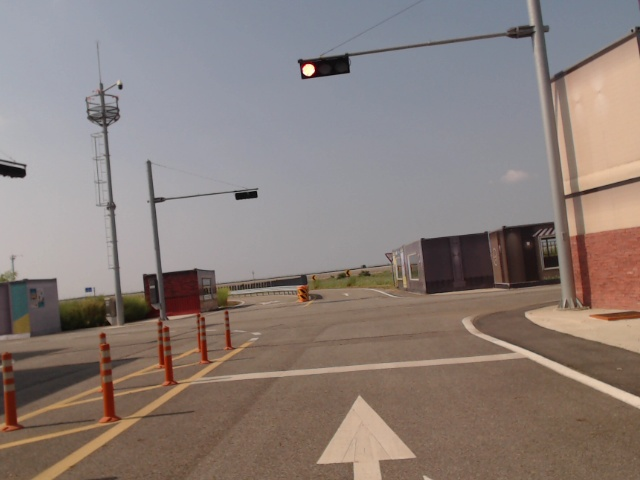red_3: (299, 56, 351, 79)
